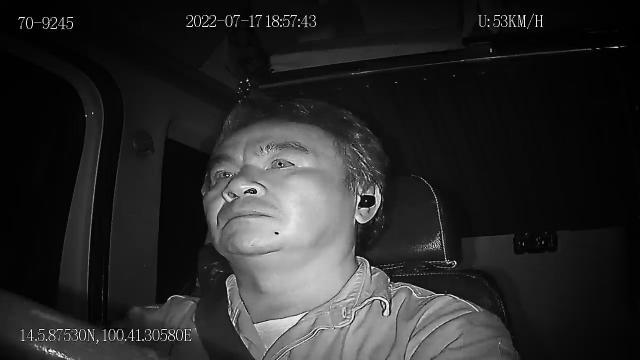SafeDriving: (262, 148, 302, 176)
Seatbelt: (193, 266, 259, 360)
